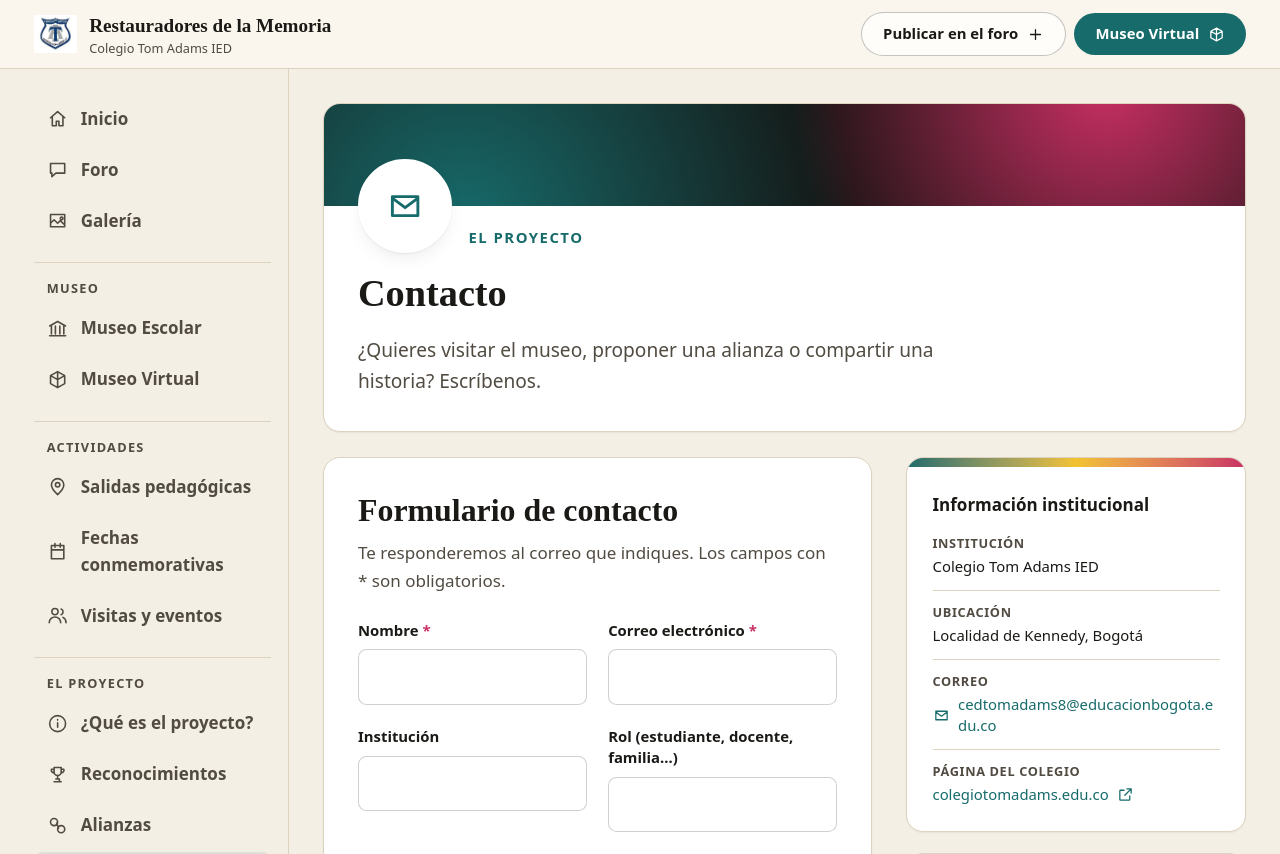
Test: Contacto › envía el contacto a la API y confirma la recepción
Type "Ana Pérez" into the field labelled "Nombre *".
click(472, 677); type("Ana Pérez")  # box [358,650,587,705]
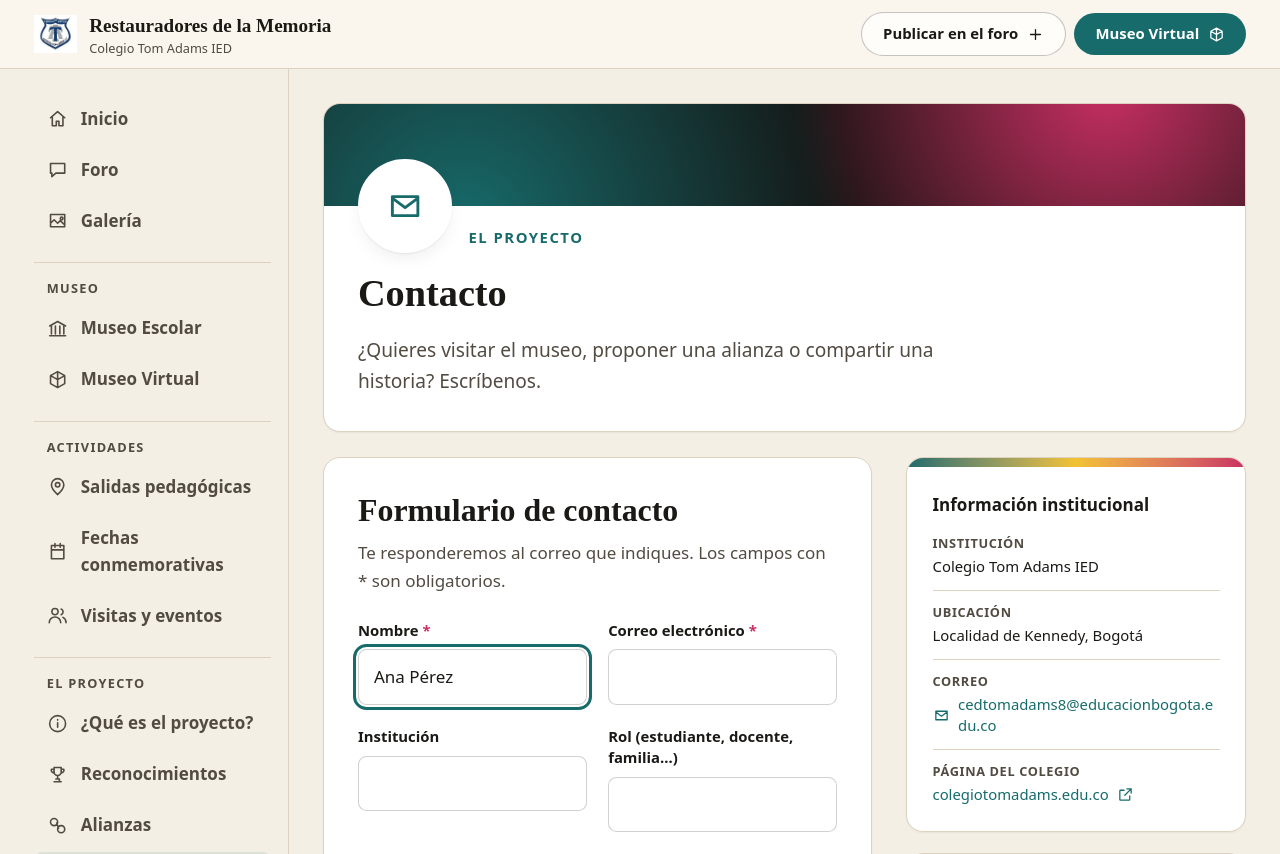
Type "ana@example.com" into the field labelled "Correo electrónico *".
click(723, 677); type("ana@example.com")  # box [608,650,837,705]
(page scrolled)
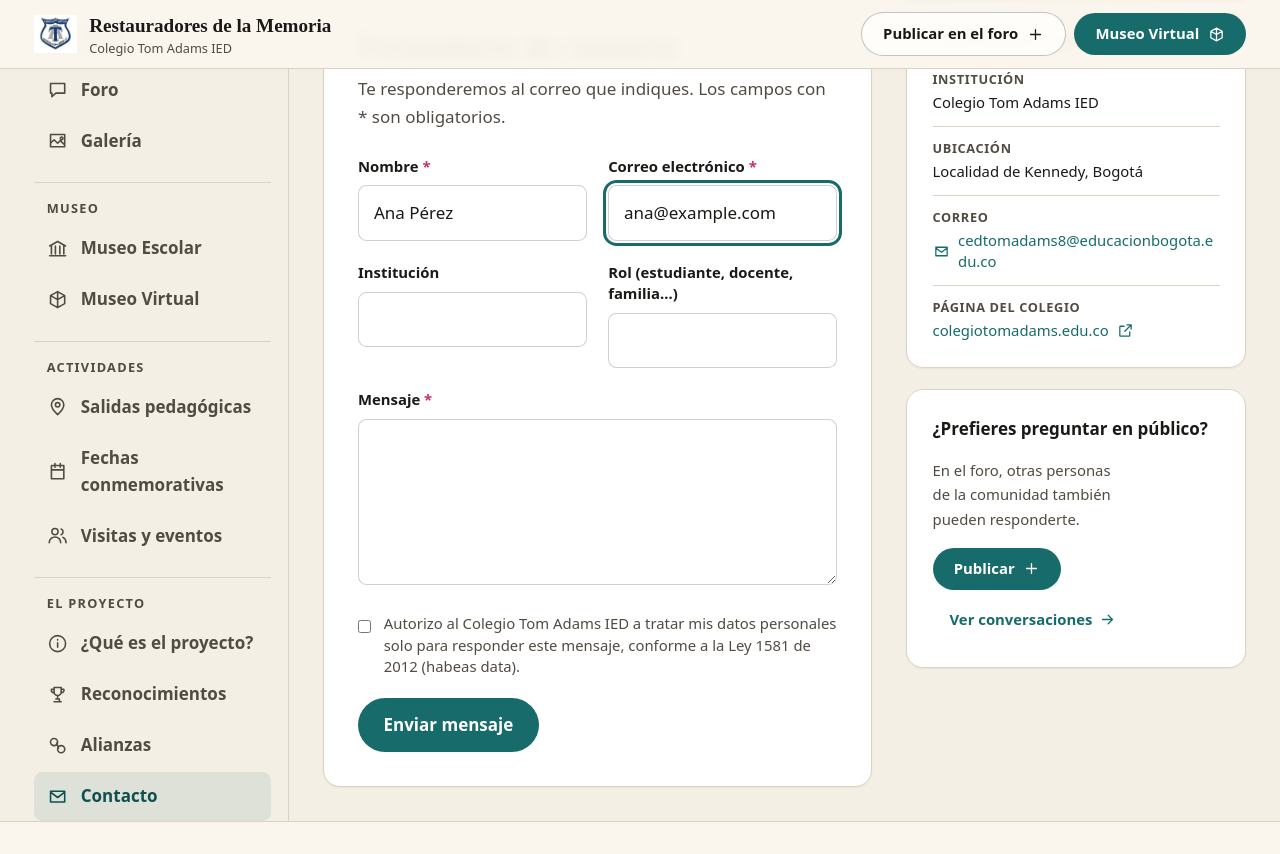
Type "Queremos visitar el museo." into the text box labelled "Mensaje *".
click(598, 502); type("Queremos visitar el museo.")  # box [358,419,837,585]
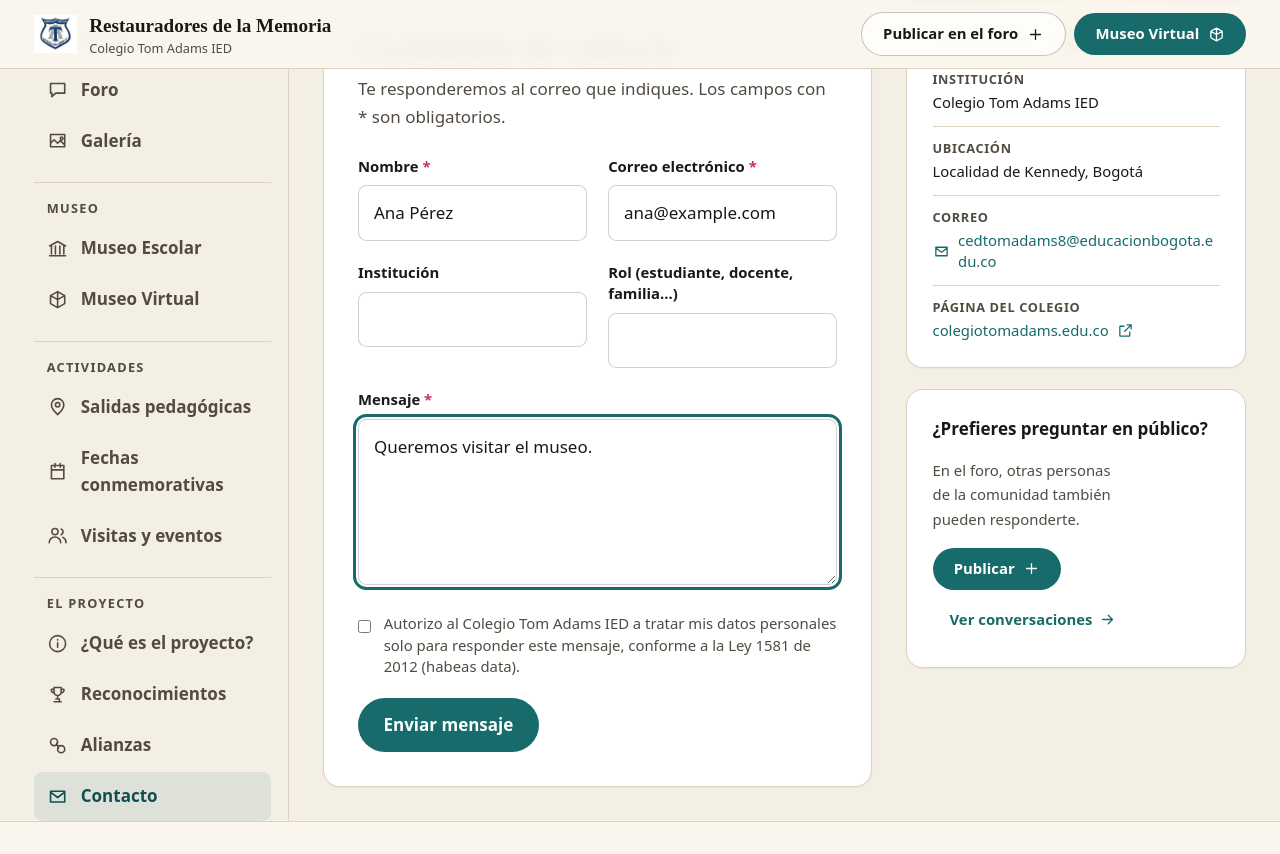
Click the checkbox.
click(364, 626)  # box [358,618,371,635]
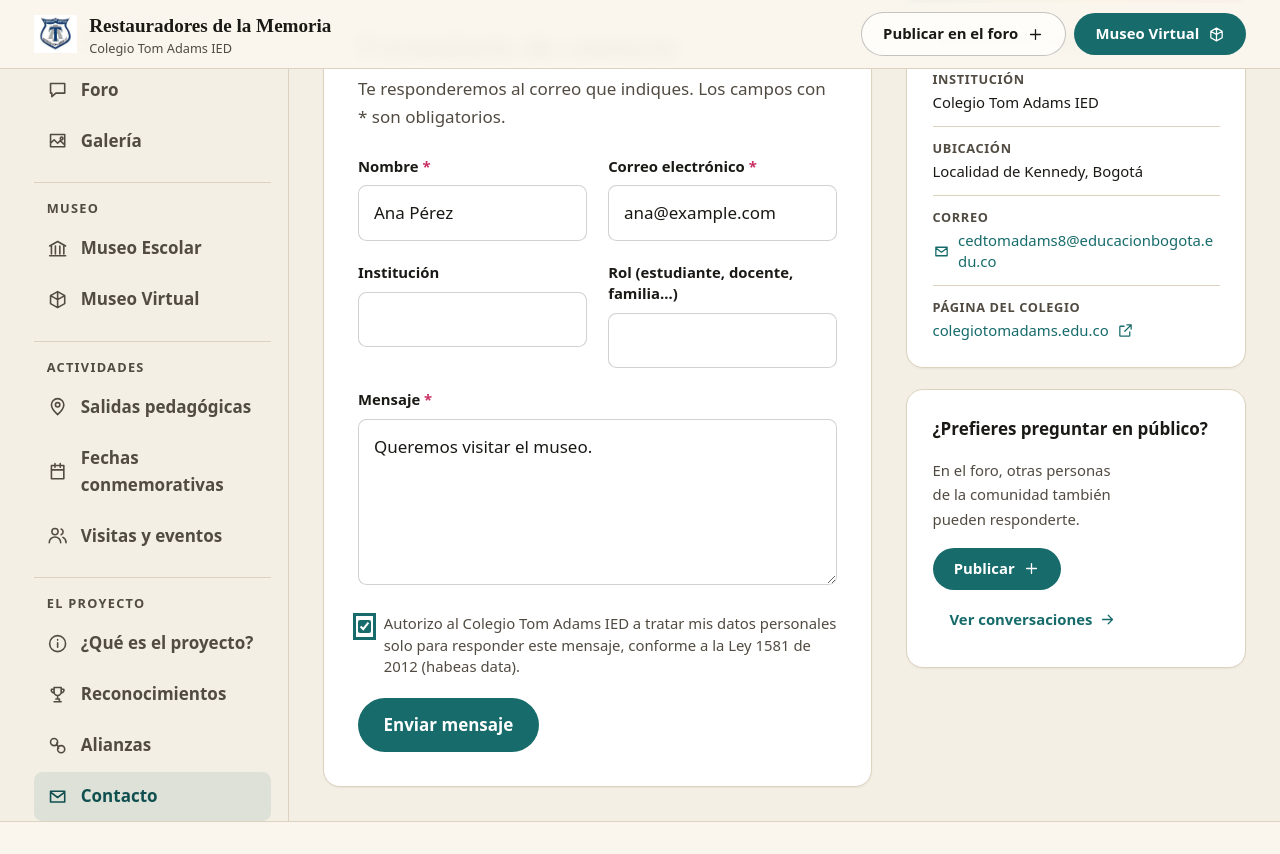
Click the button "Enviar mensaje".
click(448, 725)  # box [358,698,539,752]
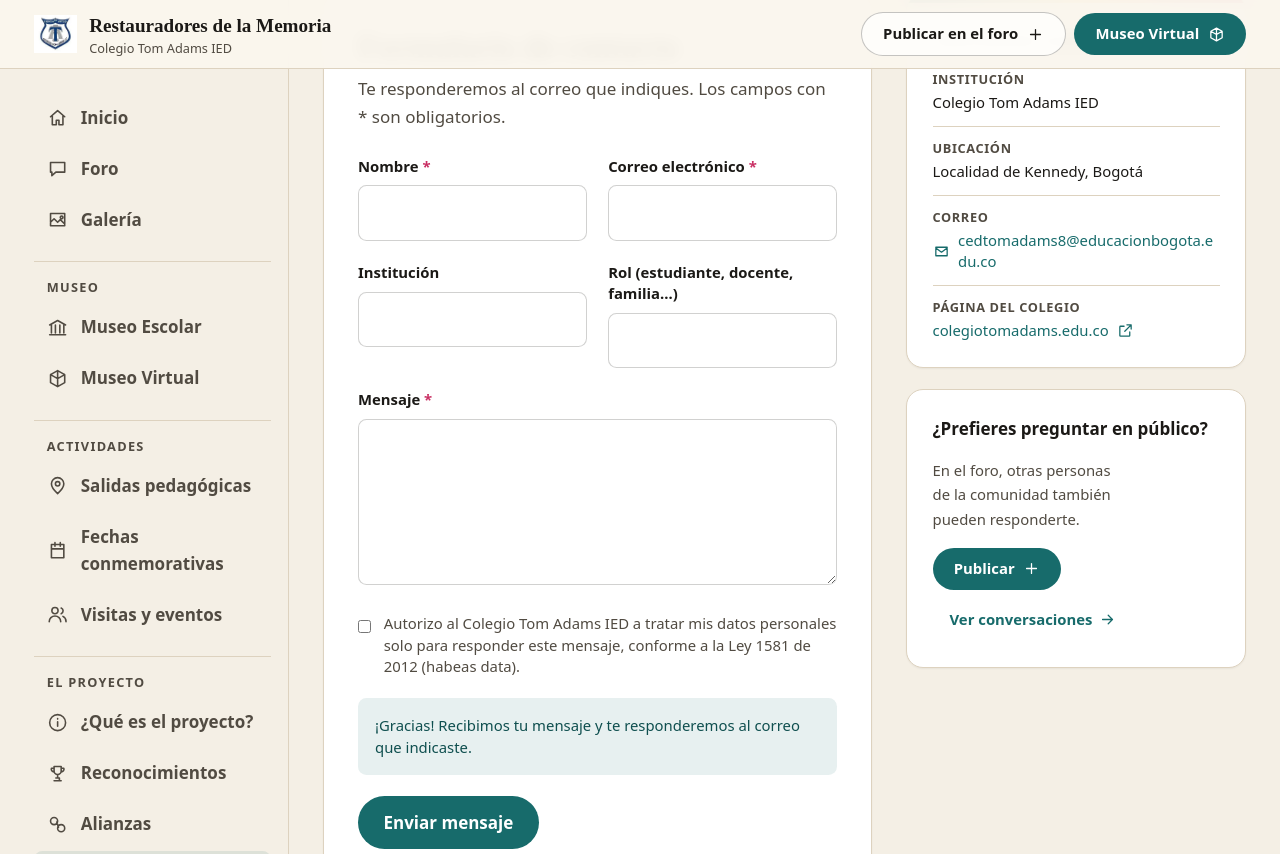
Result: the message shows "Recibimos tu mensaje" at [375,716,800,757]
Result: the field labelled "Nombre *" is empty at [358,186,587,241]
